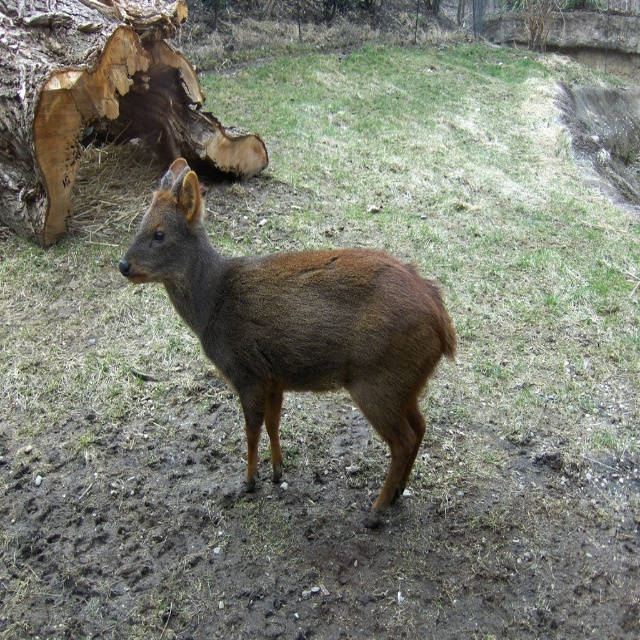Deer: (118, 158, 455, 511)
